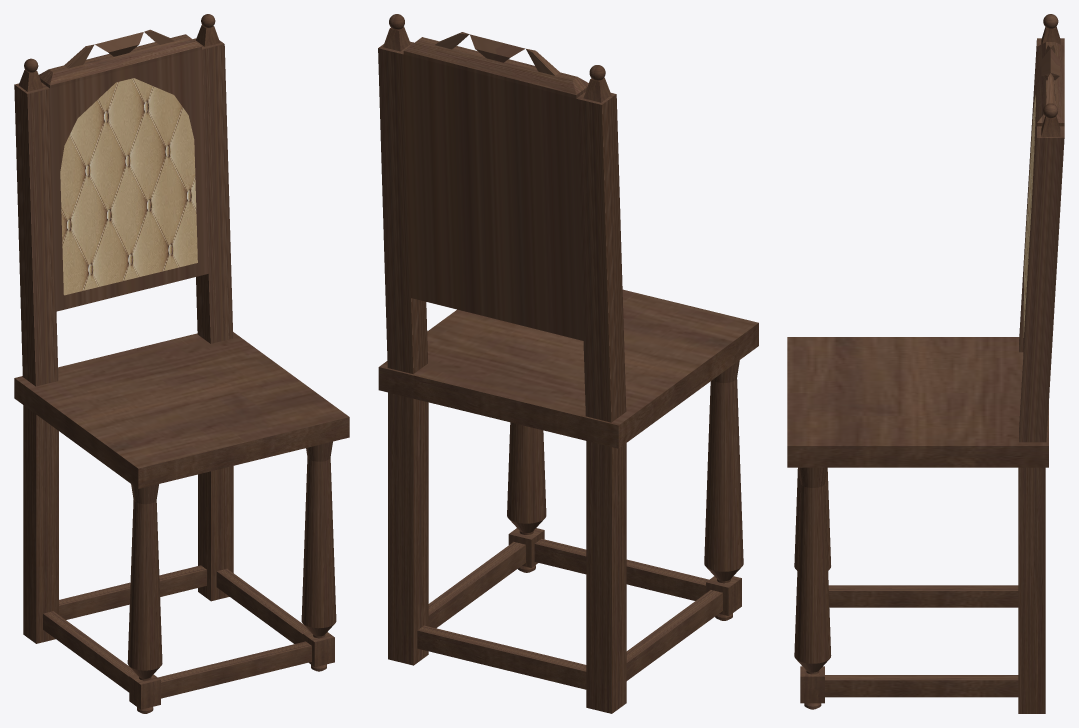
The model's file is Medieval chair 1.gltf.
3 views of the same model, side by side, from view 1: azimuth 30°, elevation 25°; view 2: azimuth 150°, elevation 25°; view 3: azimuth 270°, elevation 25° (orthographic). The views are drawn at different scales.
Parts seen in each view (by area): view 1: Chair; view 2: Chair; view 3: Chair.
Boxes of the visible parts, box(x1,y1,x2,y2) form: Chair: box(14, 14, 349, 713); Chair: box(378, 14, 758, 713); Chair: box(787, 14, 1064, 713).
Bounding box in the file's own units: 6.72 × 17.38 × 7.22.
Materials: 2 (2 with a texture image).
